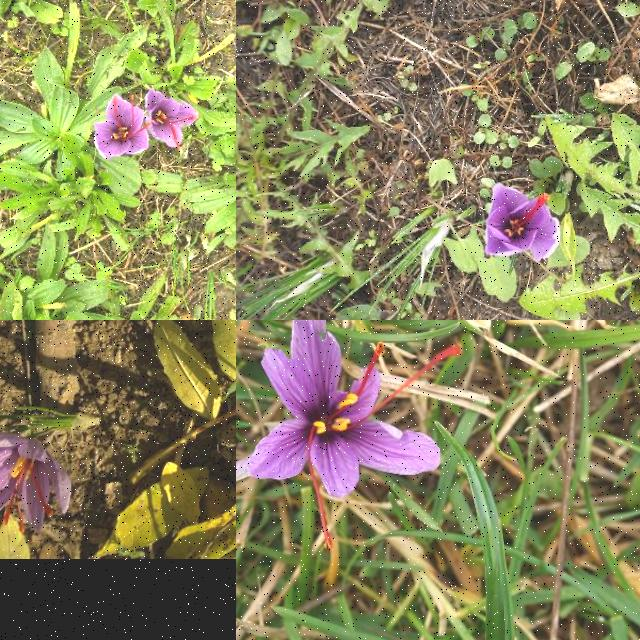flower: (244, 320, 462, 551), (0, 438, 70, 531), (484, 184, 560, 264), (94, 94, 152, 160), (145, 89, 199, 149)
